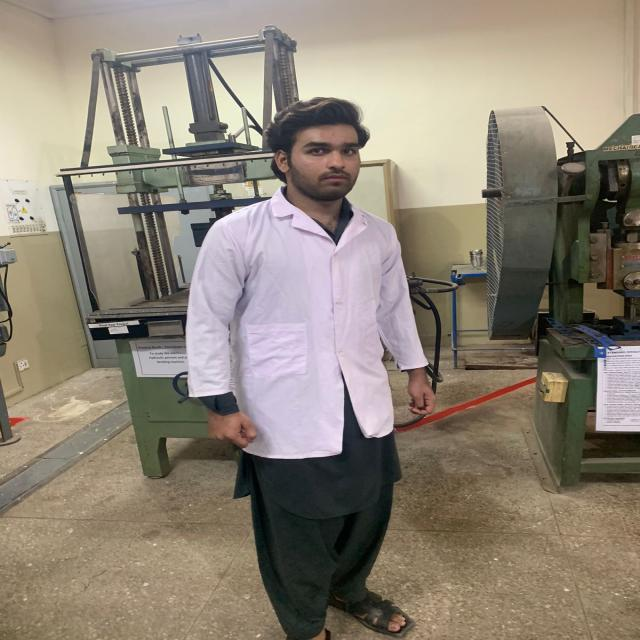labcoat: (182, 183, 430, 461)
